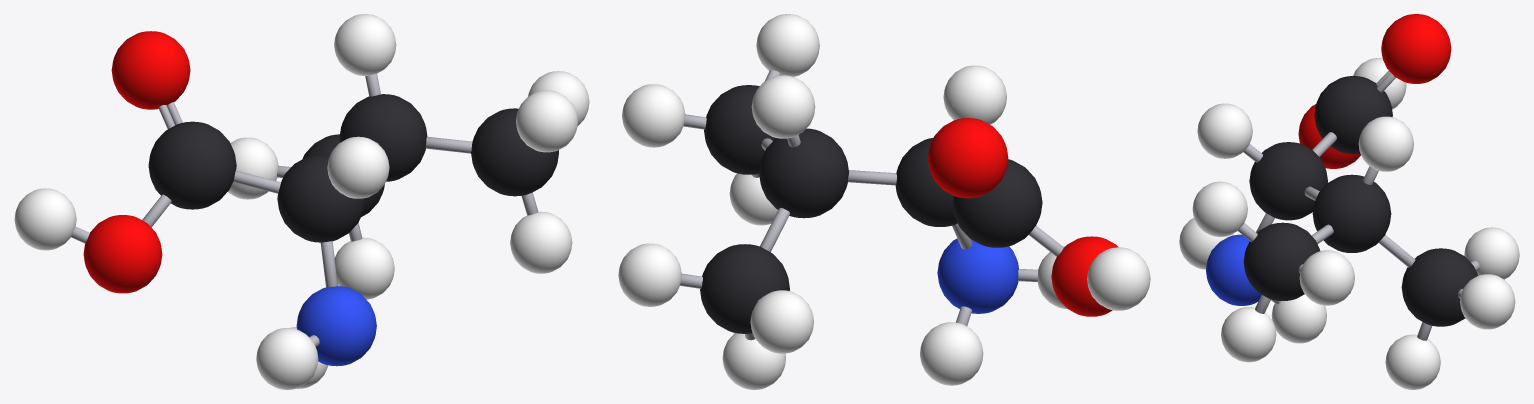
Rendered from valine.glb.
3 renders of one model, left to right at view 1: azimuth 30°, elevation 25°; view 2: azimuth 150°, elevation 25°; view 3: azimuth 270°, elevation 25°, orthographic. The views are drawn at different scales.
Visible parts, largest first — view 1: C5, C3, O7, C2, O6, N4, C1, H12, H15, H16, H18, H11 (+8 smaller); view 2: C1, C0, O6, C5, N4, C2, C3, H11, H10, H18, H17, H13 (+10 smaller); view 3: C1, C3, C0, C2, C5, O6, N4, H9, H11, H15, H13, H12 (+9 smaller).
Part boxes in pixels (x1,y1,x2,y2): C5: (148, 121, 236, 209); C3: (277, 154, 365, 242); O7: (83, 215, 162, 293); C2: (471, 108, 558, 196); O6: (111, 31, 190, 109); N4: (296, 286, 376, 366); C1: (339, 94, 427, 181); H12: (516, 90, 577, 152); H15: (327, 136, 389, 198); H16: (256, 328, 318, 389); H18: (14, 188, 76, 250); H11: (334, 14, 396, 75); C1: (759, 128, 848, 218); C0: (700, 244, 789, 333); O6: (927, 118, 1008, 198); C5: (952, 159, 1042, 247); N4: (937, 238, 1018, 313); C2: (704, 85, 775, 174); C3: (895, 138, 957, 226); H11: (751, 75, 815, 138); H10: (750, 290, 813, 353); H18: (1087, 247, 1150, 310); H17: (920, 322, 983, 385); H13: (622, 84, 685, 147); C1: (1312, 174, 1391, 252); C3: (1249, 142, 1327, 220); C0: (1401, 248, 1477, 326); C2: (1243, 222, 1320, 300); C5: (1314, 76, 1392, 154); O6: (1381, 14, 1451, 83); N4: (1206, 234, 1261, 305); H9: (1460, 274, 1515, 329); H11: (1358, 116, 1413, 171); H15: (1197, 103, 1252, 158); H13: (1299, 250, 1354, 305); H12: (1192, 181, 1247, 236).
Bounding box in the file's own units: 7.18 × 4.13 × 4.42.
